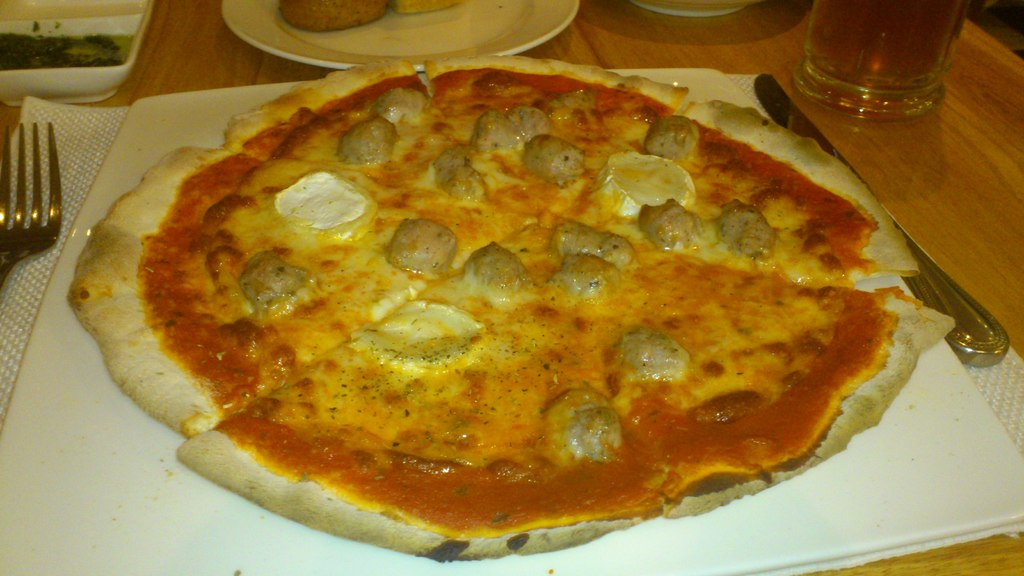Pizza: (52, 53, 945, 546)
